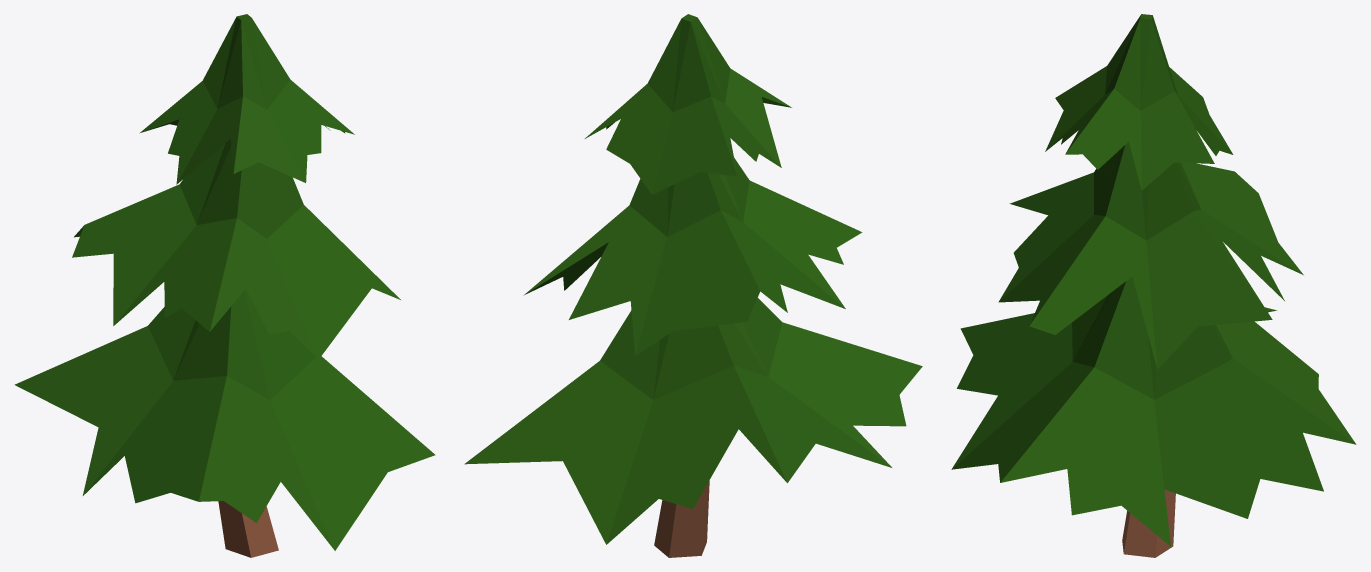
File: tree_3.fbx
3 renders of one model, left to right at view 1: azimuth 30°, elevation 25°; view 2: azimuth 150°, elevation 25°; view 3: azimuth 270°, elevation 25°, orthographic.
Visible parts, largest first — view 1: tree_3; view 2: tree_3; view 3: tree_3.
Boxes of the visible parts, <box> form: tree_3: <box>14,14,435,557</box>; tree_3: <box>464,14,922,557</box>; tree_3: <box>951,14,1356,557</box>.
Bounding box in the file's own units: 294 × 446 × 311.
